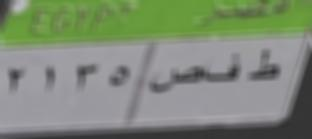1: (38, 63, 61, 97)
2: (5, 60, 27, 94)
3: (73, 59, 100, 94)
5: (103, 58, 134, 90)
Taa: (248, 41, 282, 87)
faa: (205, 51, 242, 89)
saad: (148, 60, 200, 98)
